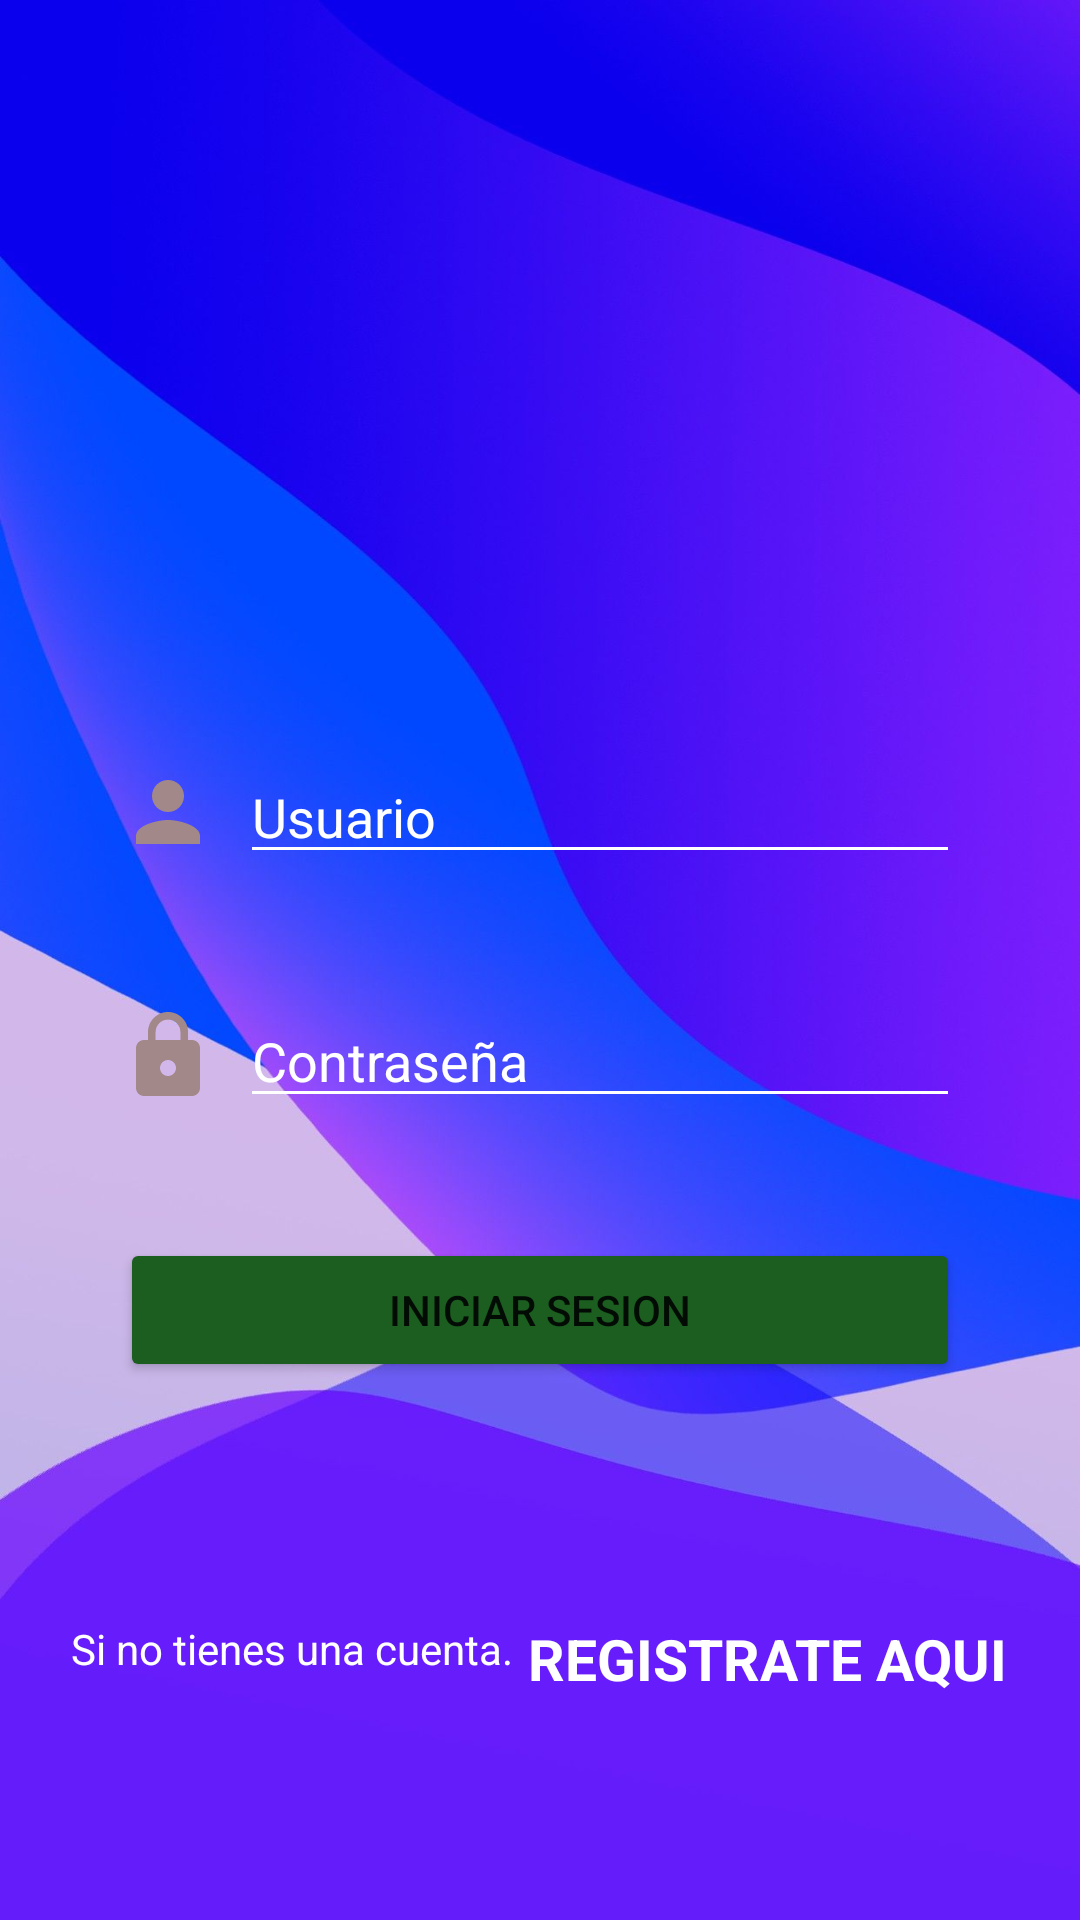

Point at icon controls on the screen. Image size 1080×1920, points as point (x, y).
candado: point (176, 1052)
person: point (168, 812)
